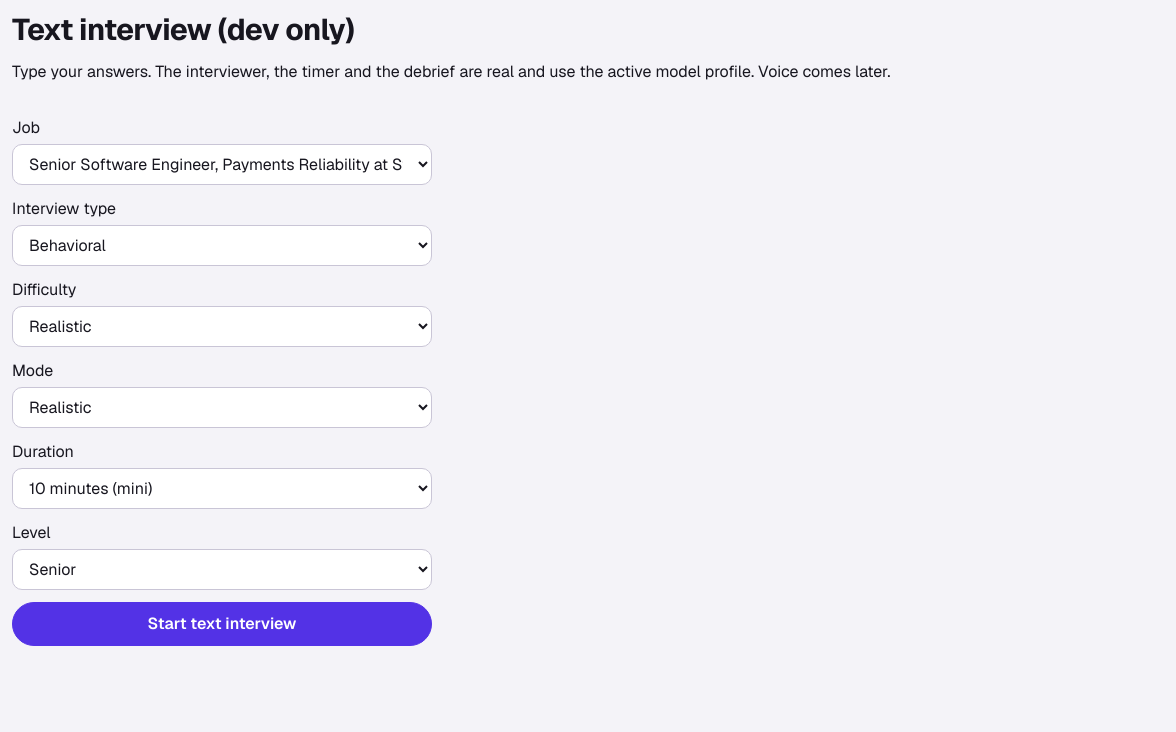
DevTextInterviewPage › runs a text interview from setup to the debrief
The width and height of the screenshot is (1176, 732).
Step 1. Select "Coach" in the dropdown labelled "Mode" → {"x": 222, "y": 408}, box [12,387,432,428]
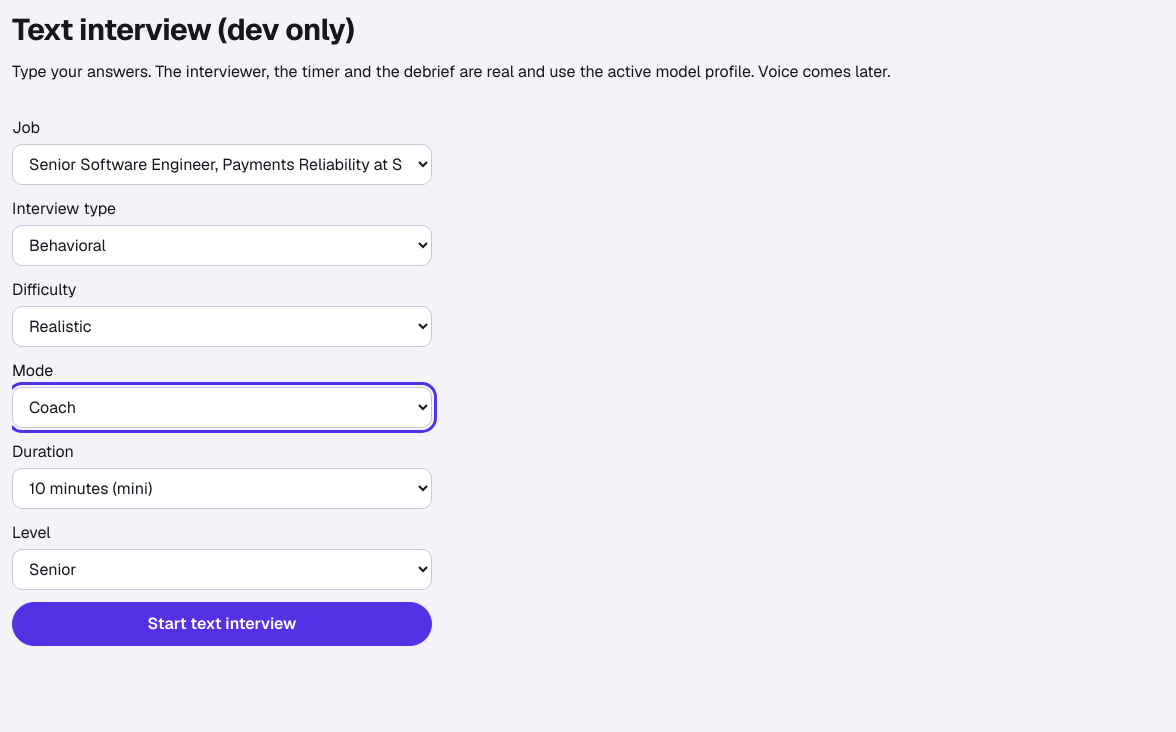
Step 2. Click the button "Start text interview" → {"x": 222, "y": 624}, box [12,602,432,646]
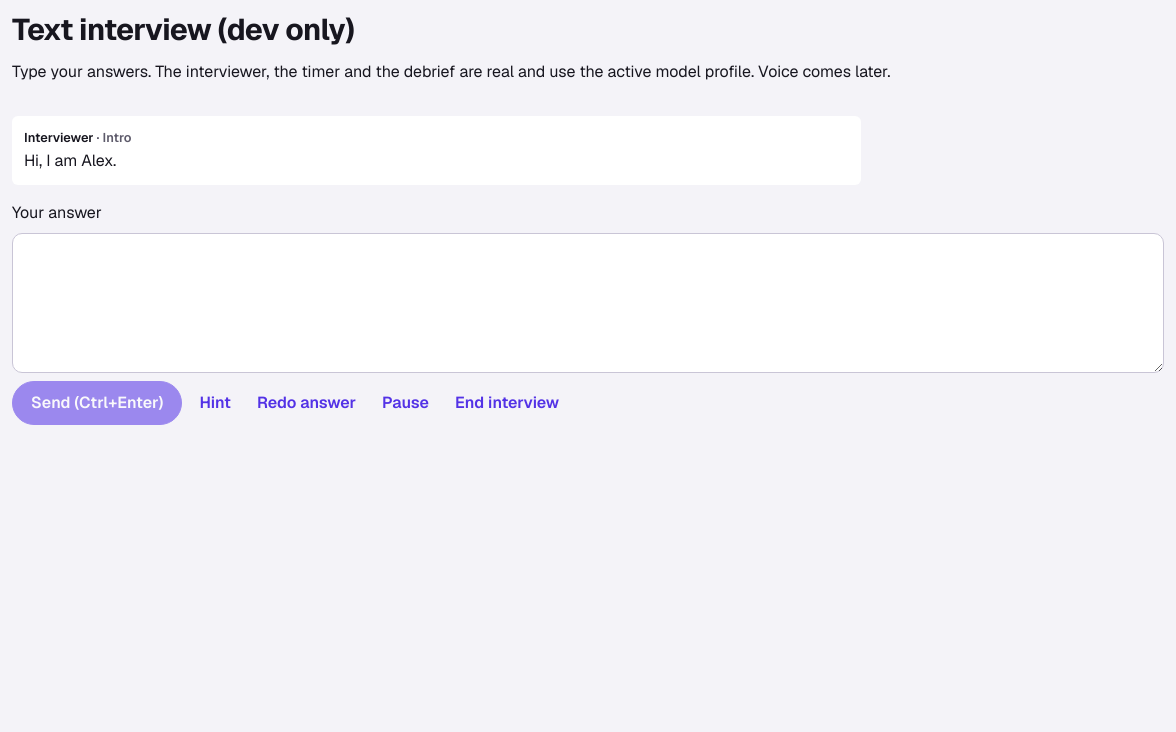
Now the text "Hi, I am Alex." is shown, box [24,150,116,171]
Step 3. Click the button "Hint" → {"x": 215, "y": 403}, box [190,381,240,425]
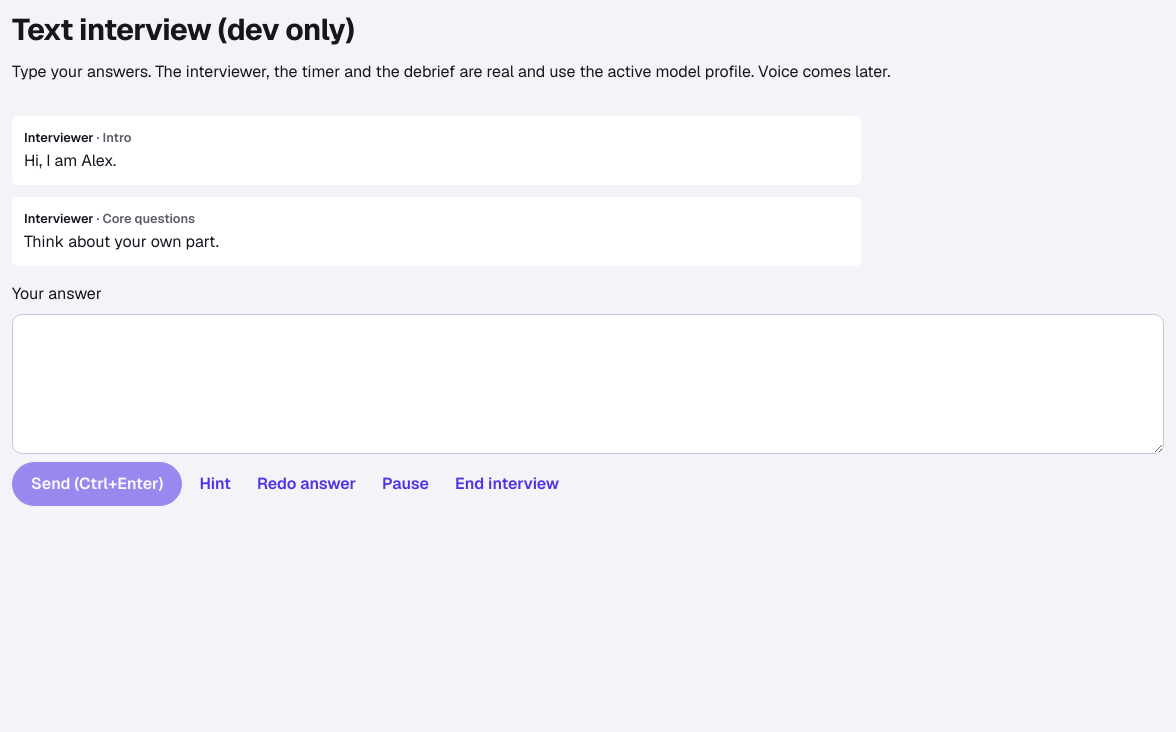
Now the text "Think about your own part." is shown, box [24,231,219,252]
Step 4. Type "I led the rollout." into the text box labelled "Your answer" → {"x": 588, "y": 384}, box [12,314,1164,454]
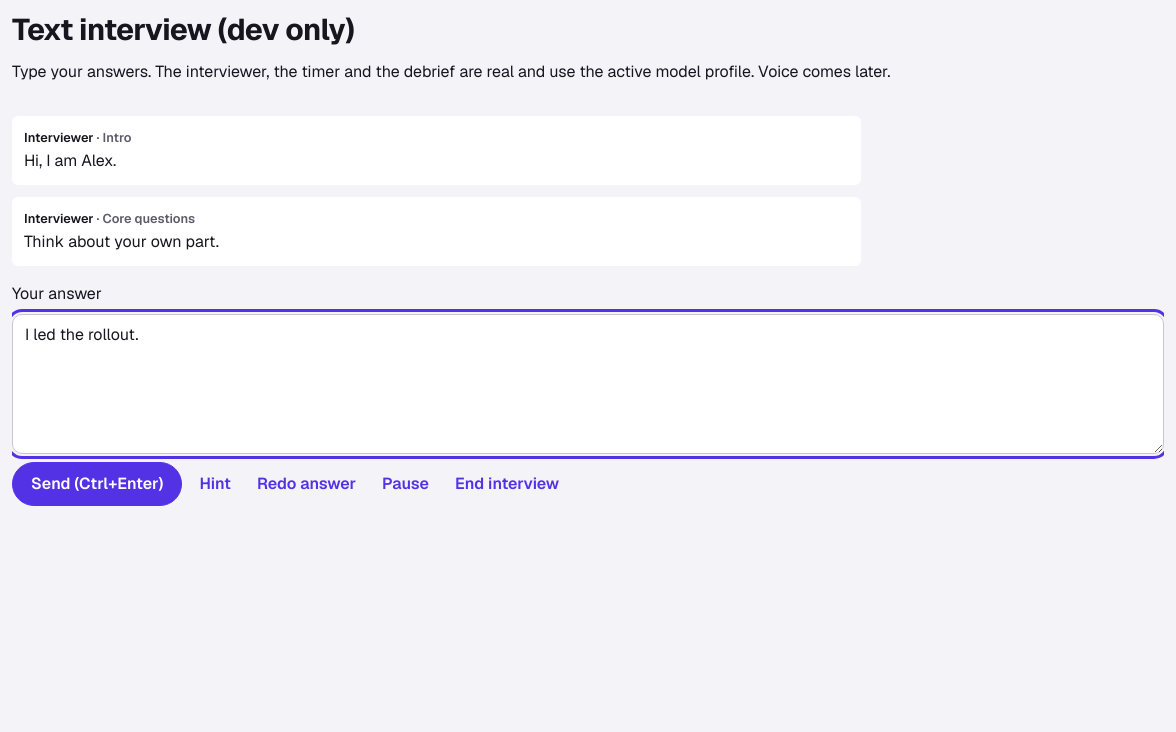
Step 5. Click the button "Send (Ctrl+Enter)" → {"x": 97, "y": 484}, box [12,462,182,506]
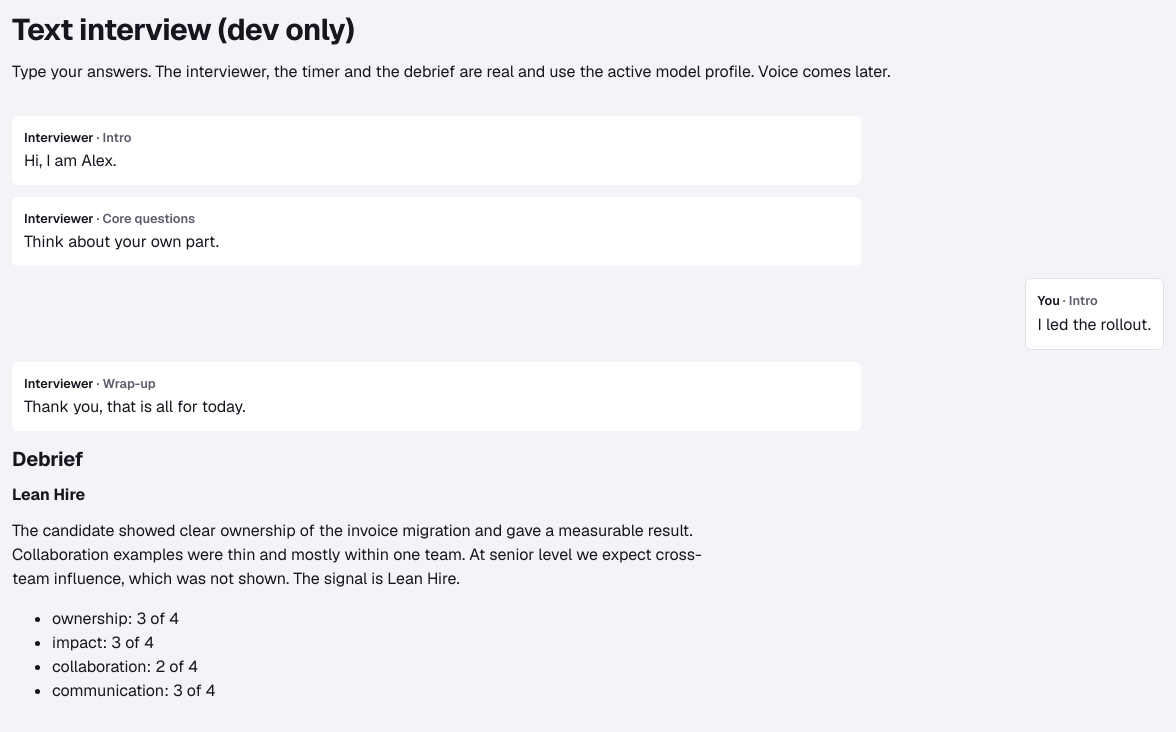
Now the text "I led the rollout." is shown, box [1038,313,1151,337]
Now the text "Thank you, that is all for today." is shown, box [24,396,245,417]
Now the text "Lean Hire" is shown, box [12,484,85,505]
